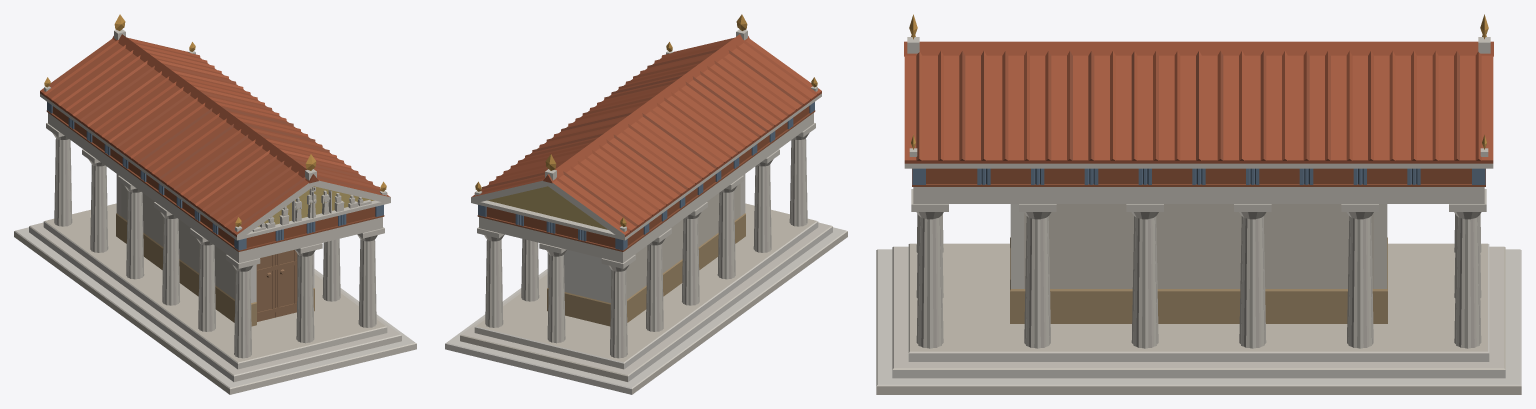
Rendered from peripteral-temple-5f6c81.glb.
3 renders of one model, left to right at view 1: azimuth 30°, elevation 25°; view 2: azimuth 150°, elevation 25°; view 3: azimuth 270°, elevation 25°, orthographic. The views are drawn at different scales.
Visible parts, largest first — view 1: temple-stone, door-r, door-l, temple-gilt; view 2: temple-stone, temple-gilt; view 3: temple-stone.
Boxes of the visible parts, left/top/right/bottom form: temple-stone: left=14, top=29, right=416, bottom=394; door-r: left=275, top=249, right=297, bottom=317; door-l: left=256, top=254, right=275, bottom=321; temple-gilt: left=44, top=14, right=386, bottom=226; temple-stone: left=445, top=29, right=847, bottom=394; temple-gilt: left=475, top=14, right=817, bottom=226; temple-stone: left=876, top=37, right=1521, bottom=394.
Bounding box in the file's own units: 12 × 12.84 × 24.
